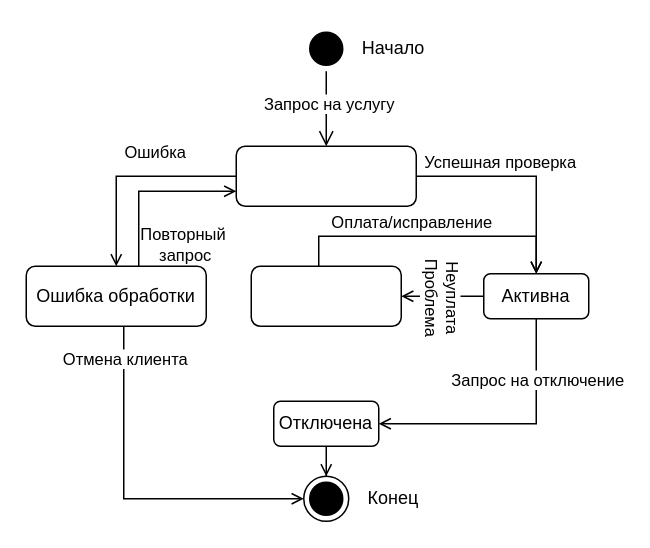
This 650x548 diagram has some shape labels left out. The centre of each missing label's shape, as x and y in pixels:
"Обработка запроса" belongs at (325,175).
"Приостановлена" belongs at (325,295).
